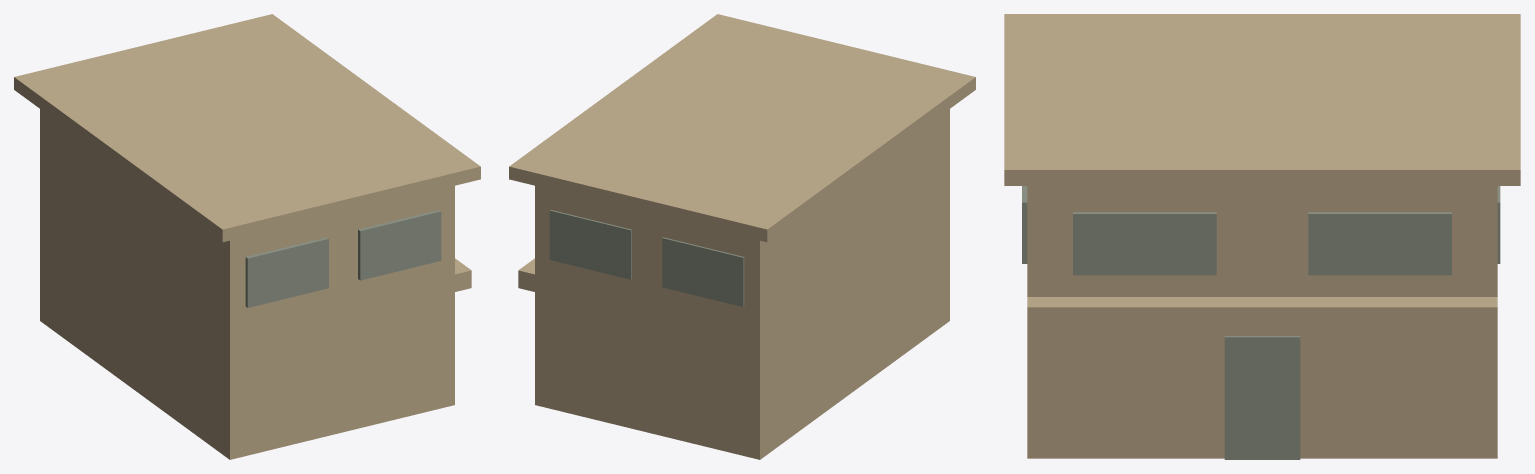
The model's file is kousin_tatemono_2.fbx.
The picture shows the model from 3 angles, left to right: view 1: azimuth 30°, elevation 25°; view 2: azimuth 150°, elevation 25°; view 3: azimuth 270°, elevation 25°; orthographic projection. The views are drawn at different scales.
Visible parts, largest first — view 1: pasted__pCube12, pasted__pCube16, pasted__pCube15; view 2: pasted__pCube12, pasted__pCube18, pasted__pCube19; view 3: pasted__pCube12, pasted__pCube17, pasted__pCube14, pasted__pCube13.
Part boxes in pixels (x1,y1,x2,y2): pasted__pCube12: (14,14,480,459); pasted__pCube16: (245,237,328,307); pasted__pCube15: (358,210,441,280); pasted__pCube12: (509,14,975,459); pasted__pCube18: (549,210,631,279); pasted__pCube19: (662,237,744,306); pasted__pCube12: (1004,14,1520,458); pasted__pCube17: (1224,336,1300,459); pasted__pCube14: (1073,212,1216,275); pasted__pCube13: (1308,212,1451,275).
Bounding box in the file's own units: 799 × 713 × 1116.
